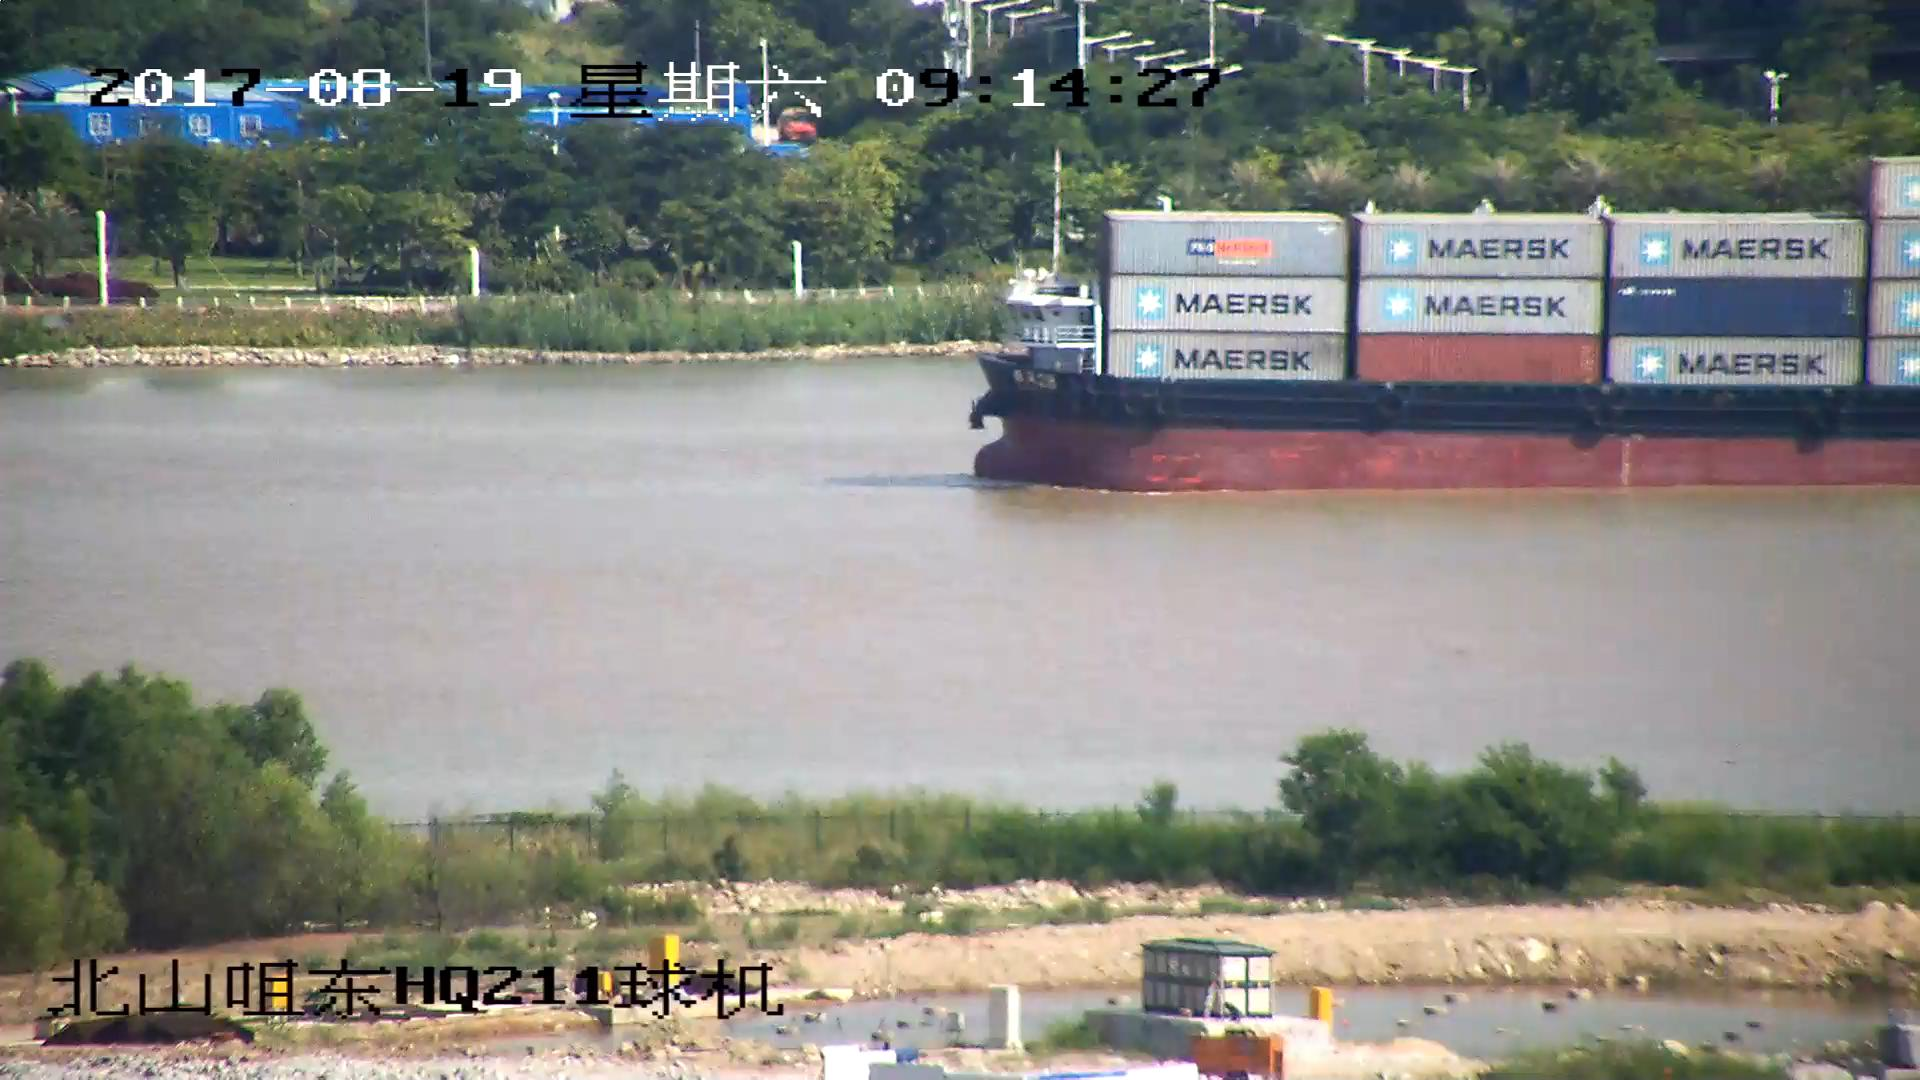container ship: (956, 158, 1920, 488)
